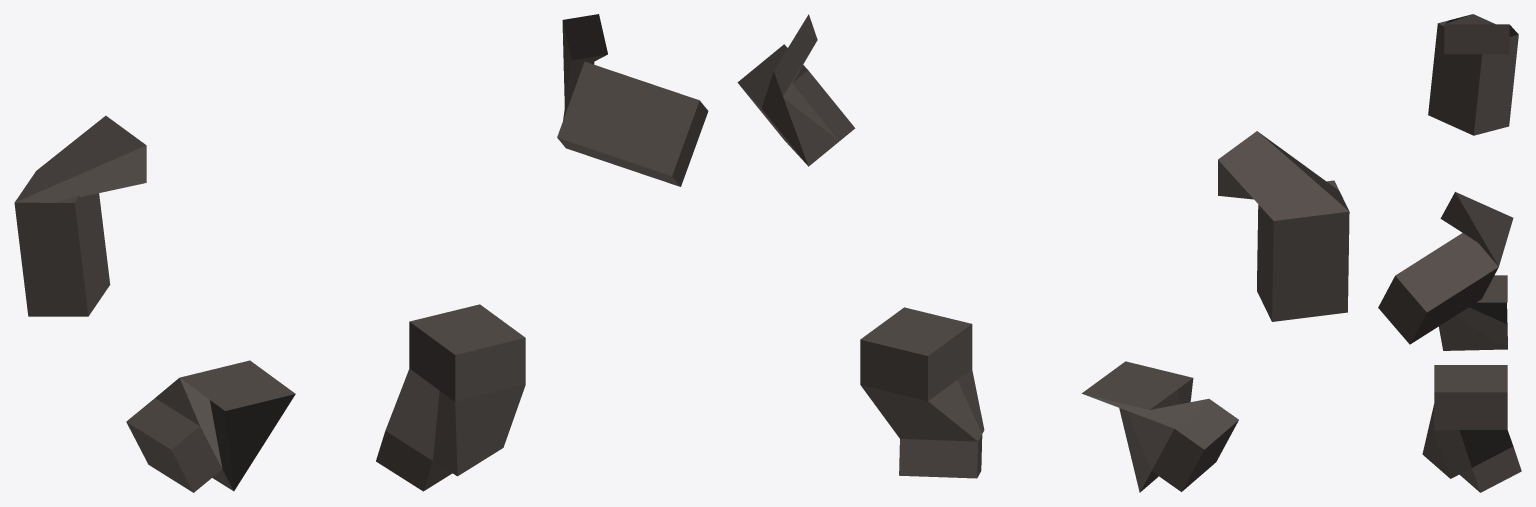
File: Meta_limbs05.glb
The picture shows the model from 3 angles, left to right: view 1: azimuth 30°, elevation 25°; view 2: azimuth 150°, elevation 25°; view 3: azimuth 270°, elevation 25°; orthographic projection. The views are drawn at different scales.
Parts seen in each view (by area): view 1: metaboy_default_detail_rounded.006; view 2: metaboy_default_detail_rounded.006; view 3: metaboy_default_detail_rounded.006.
Boxes of the visible parts, x1,y1,x2,y2 form: metaboy_default_detail_rounded.006: [14, 14, 708, 492]; metaboy_default_detail_rounded.006: [737, 14, 1349, 492]; metaboy_default_detail_rounded.006: [1378, 14, 1521, 492].
Bounding box in the file's own units: 3.76 × 2.34 × 0.8816.
Materials: 1 (1 with a texture image).
